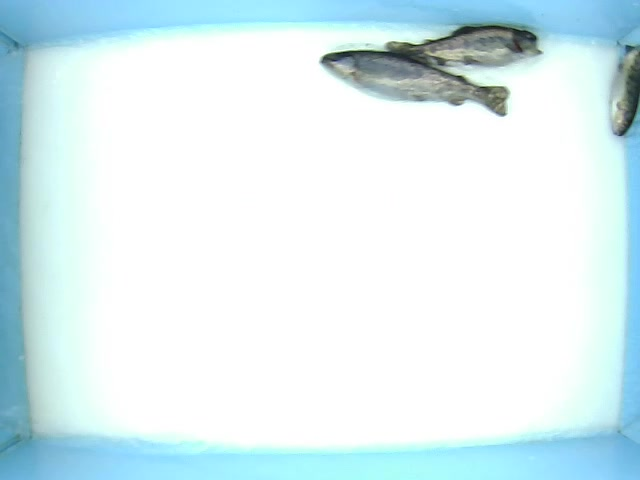fish: (314, 49, 510, 118), (386, 23, 545, 68)
